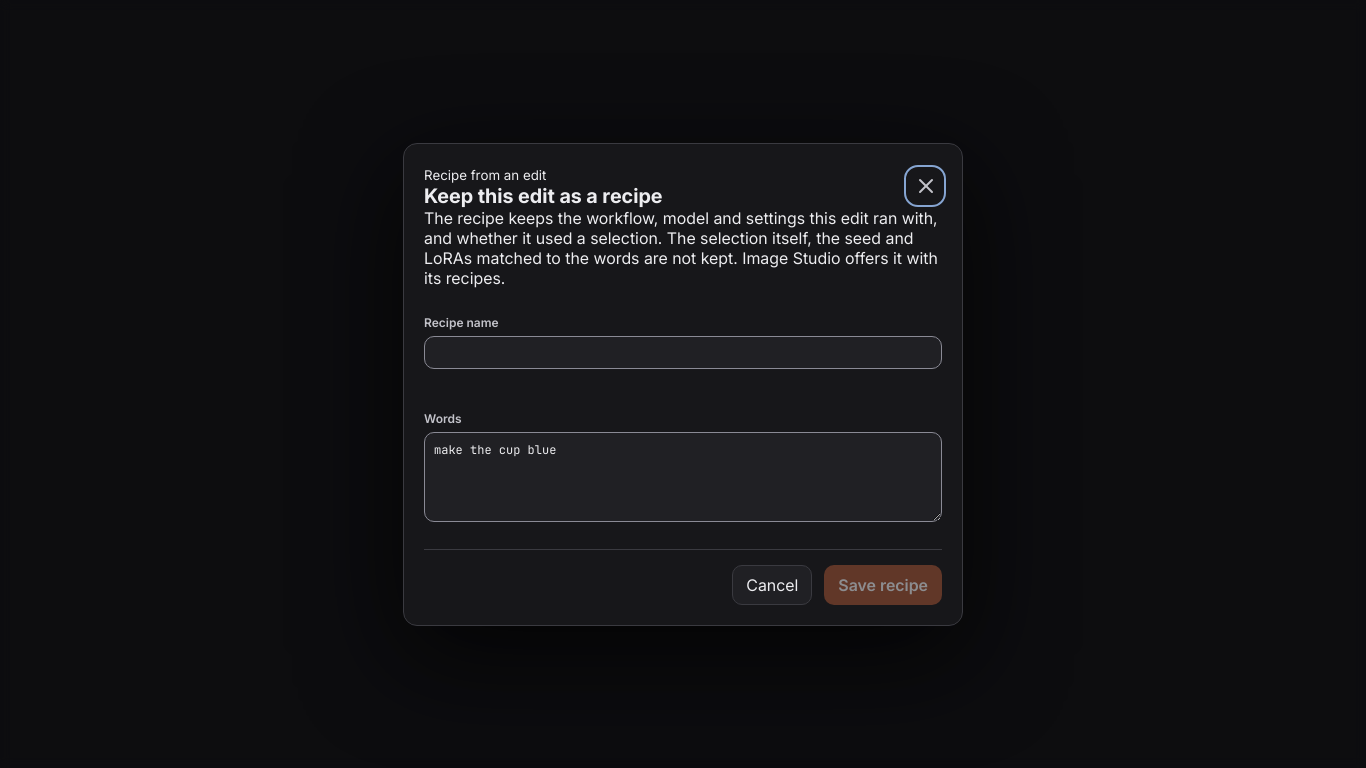
Scenario: says why a recipe was not saved and keeps what was typed
The width and height of the screenshot is (1366, 768).
Type "Bluer cup" into the field labelled "Recipe name" at x=683, y=352, box [424,336,942,368]
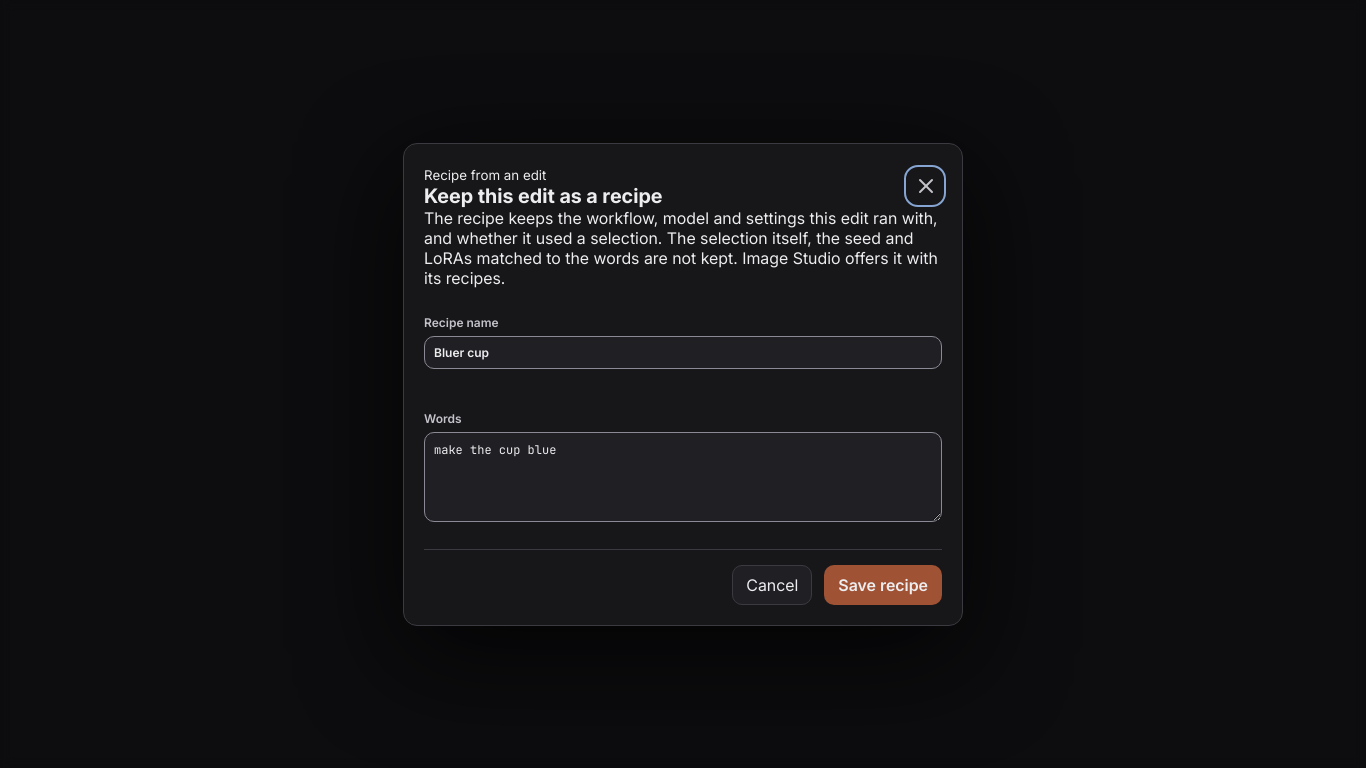
Click the button "Save recipe" at x=883, y=584, box [824,564,942,604]
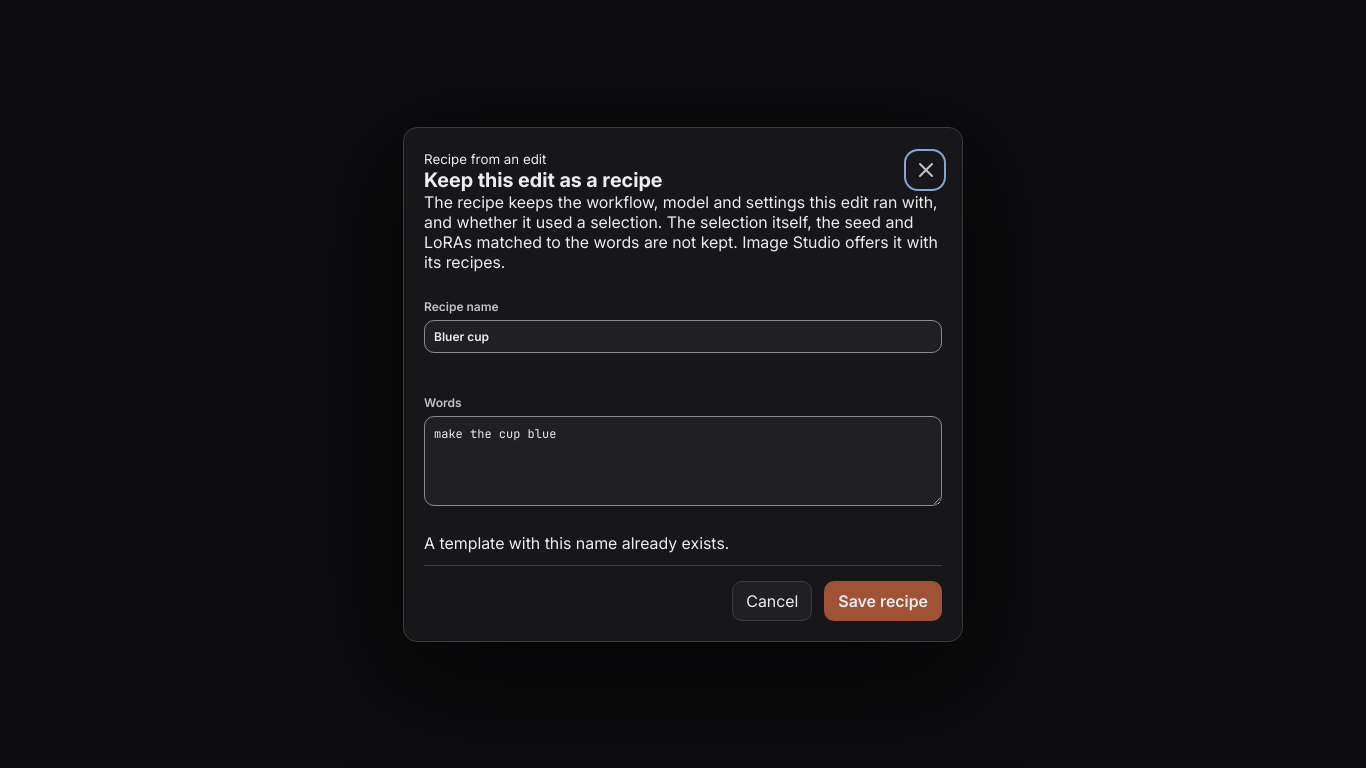
Expected: the message reads "A template with this name already exists.", [424,532,729,552]
